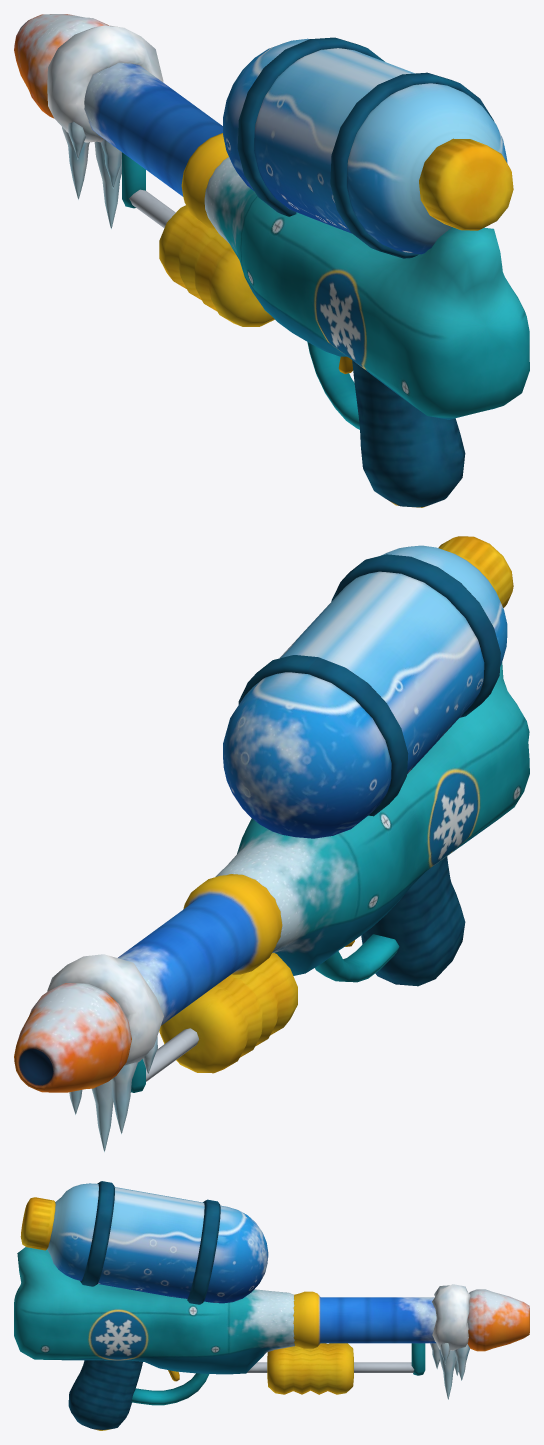
The model's file is water.glb.
The picture shows the model from 3 angles, top to bottom: view 1: azimuth 30°, elevation 25°; view 2: azimuth 150°, elevation 25°; view 3: azimuth 270°, elevation 25°; orthographic projection. The views are drawn at different scales.
Visible parts, largest first — view 1: WaterSoaker; view 2: WaterSoaker; view 3: WaterSoaker.
Boxes of the visible parts, x1,y1,x2,y2 form: WaterSoaker: (14, 14, 529, 507); WaterSoaker: (14, 536, 529, 1152); WaterSoaker: (14, 1181, 529, 1430).
Size of the model in its own units: 0.1426 by 0.3583 by 0.6916.
Materials: 1 (1 with a texture image).
